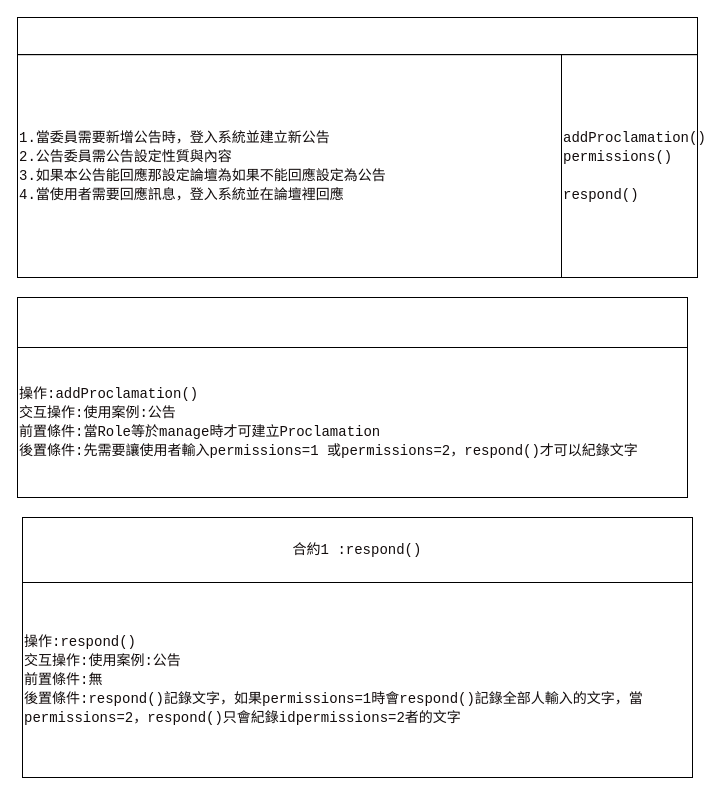
The diagram is 724 pixels wide and 795 high, and some of its shapes have lost their labels. The box of each missing label's shape, as (x1, y1, x2, y2) in pixels:
使用案例:公告: (16, 16, 698, 55)
合約1 :proclamation(): (16, 296, 688, 348)
